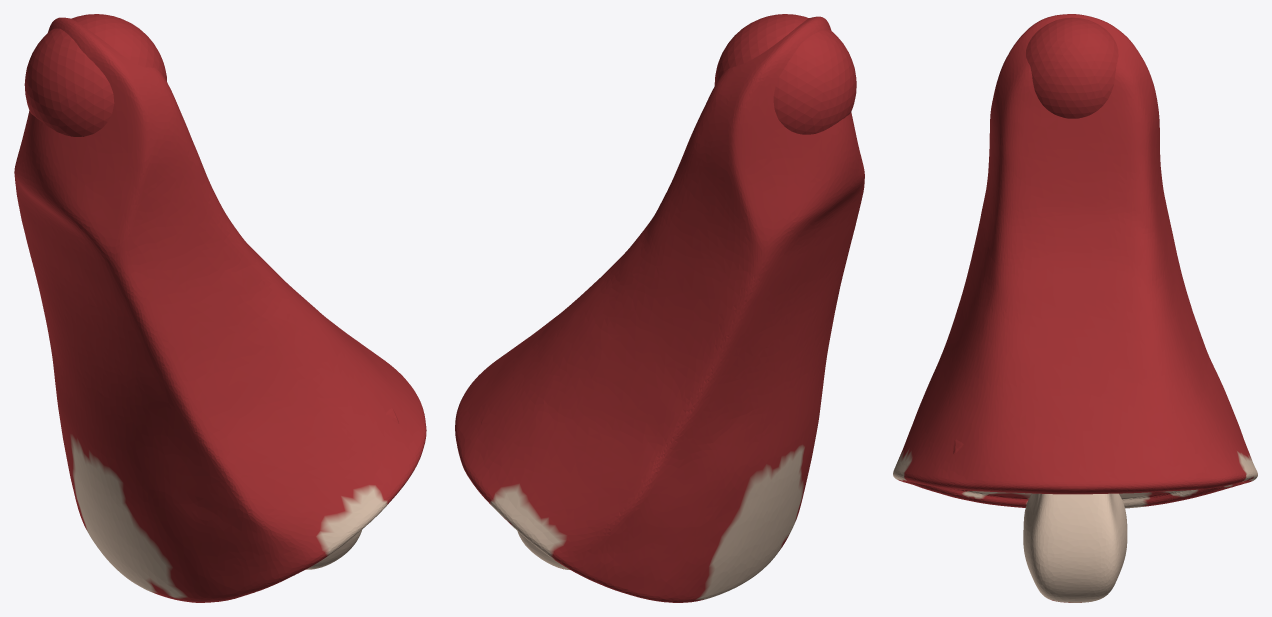
Rendered from arm_L.glb.
3 views of the same model, side by side, from view 1: azimuth 30°, elevation 25°; view 2: azimuth 150°, elevation 25°; view 3: azimuth 270°, elevation 25° (orthographic). The views are drawn at different scales.
Visible parts, largest first — view 1: geometry_0; view 2: geometry_0; view 3: geometry_0.
Boxes of the visible parts, x1,y1,x2,y2 form: geometry_0: [14, 14, 426, 602]; geometry_0: [455, 14, 864, 602]; geometry_0: [893, 14, 1257, 602].
Size of the model in its own units: 0.2938 by 0.4639 by 0.3121.
